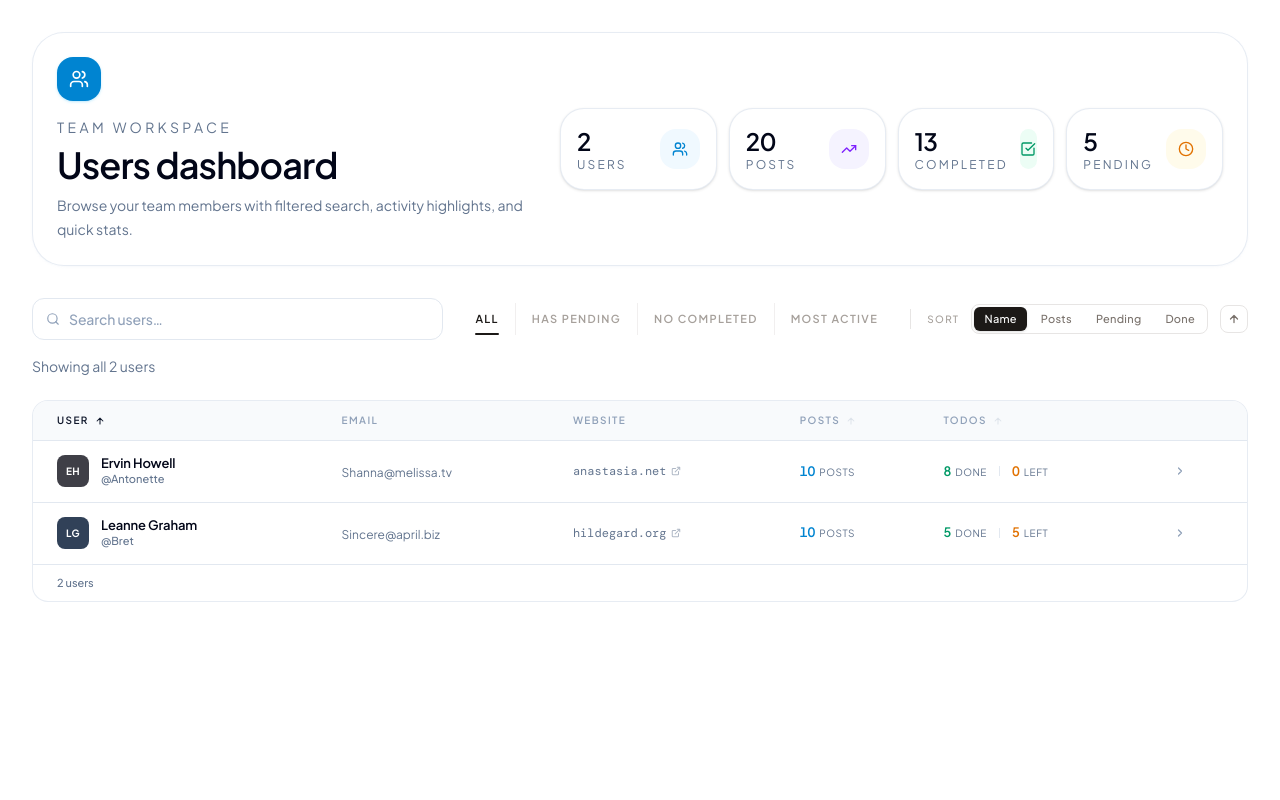
Test: UsersPage › applies hasPending filter correctly
What coordinates should you click on to do the following:
click the button "Has Pending"
I would click on:
 (576, 319)
Its box is [515, 303, 637, 335].
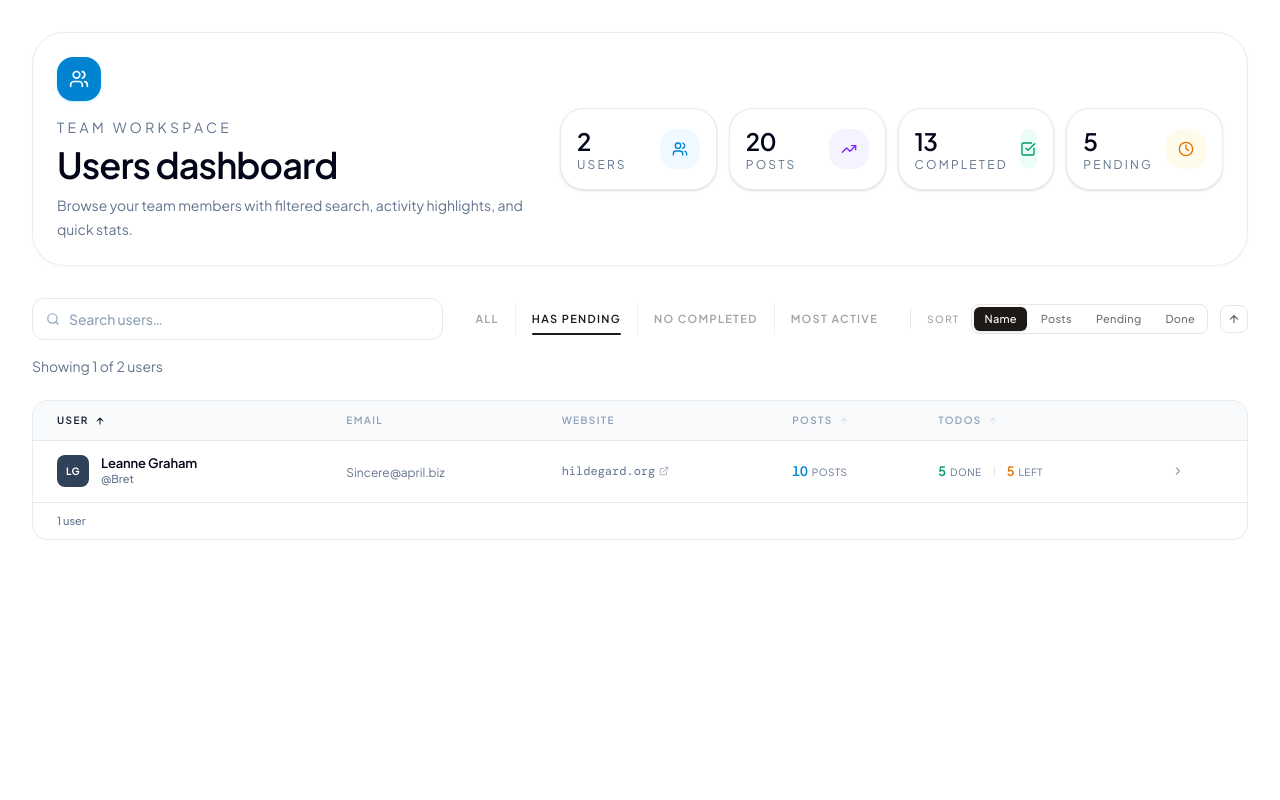
Expected: the text "Leanne Graham" is shown, [101, 455, 197, 471]
Now the link "Ervin Howell" is gone
